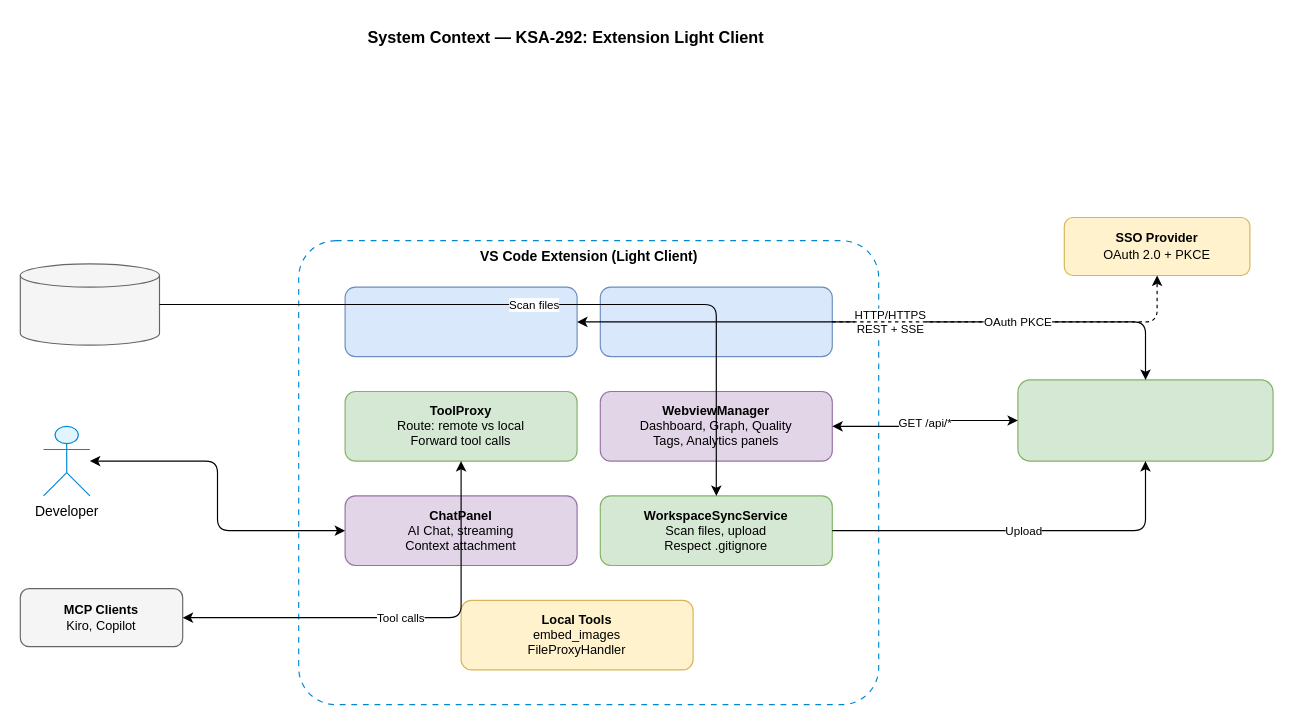
Image size: 1293x725. Some labels were removed from this diagram. Each missing label, with the centre of its shape:
AuthManager Login/SSO PKCE Token refresh: (x=715, y=321)
ConnectionManager Remote connection lifecycle Health check polling: (x=460, y=321)
Local Filesystem Workspace files: (x=89, y=304)
Remote Backend Server Hono HTTP, 52 MCP tools KB, Code Intel, Analytics: (x=1145, y=420)
